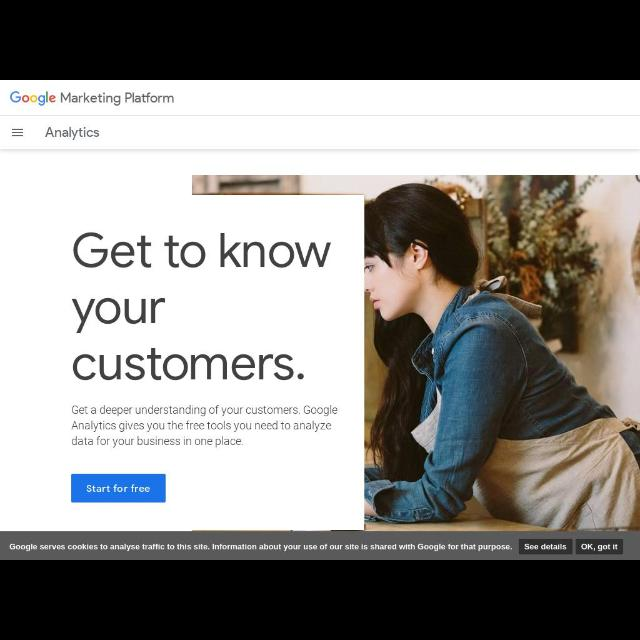icon: (10, 127, 24, 139)
image: (361, 174, 639, 530), (191, 176, 363, 194), (9, 90, 56, 104)
text: (70, 226, 332, 274), (73, 406, 337, 446), (70, 351, 306, 385), (69, 292, 171, 340), (9, 542, 515, 550), (58, 92, 175, 106), (46, 126, 98, 140)
textbutton: (72, 475, 165, 501), (578, 540, 622, 554), (520, 542, 572, 552)
toolbar: (3, 86, 639, 114)
